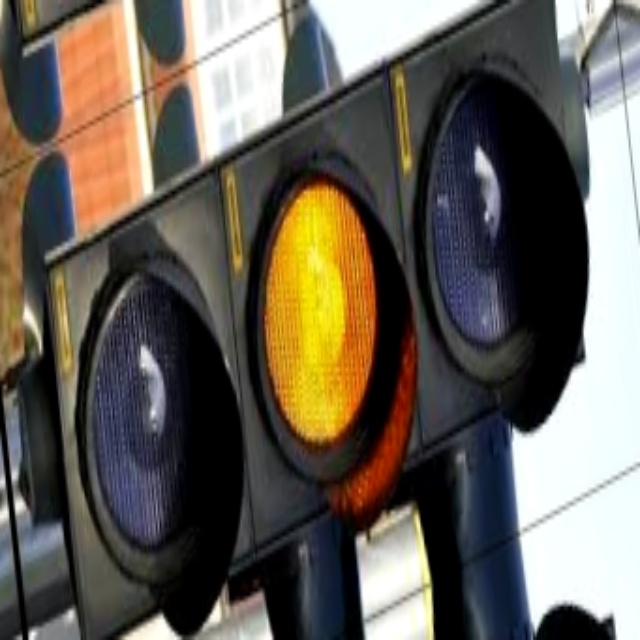yellow_light: (243, 149, 390, 485)
